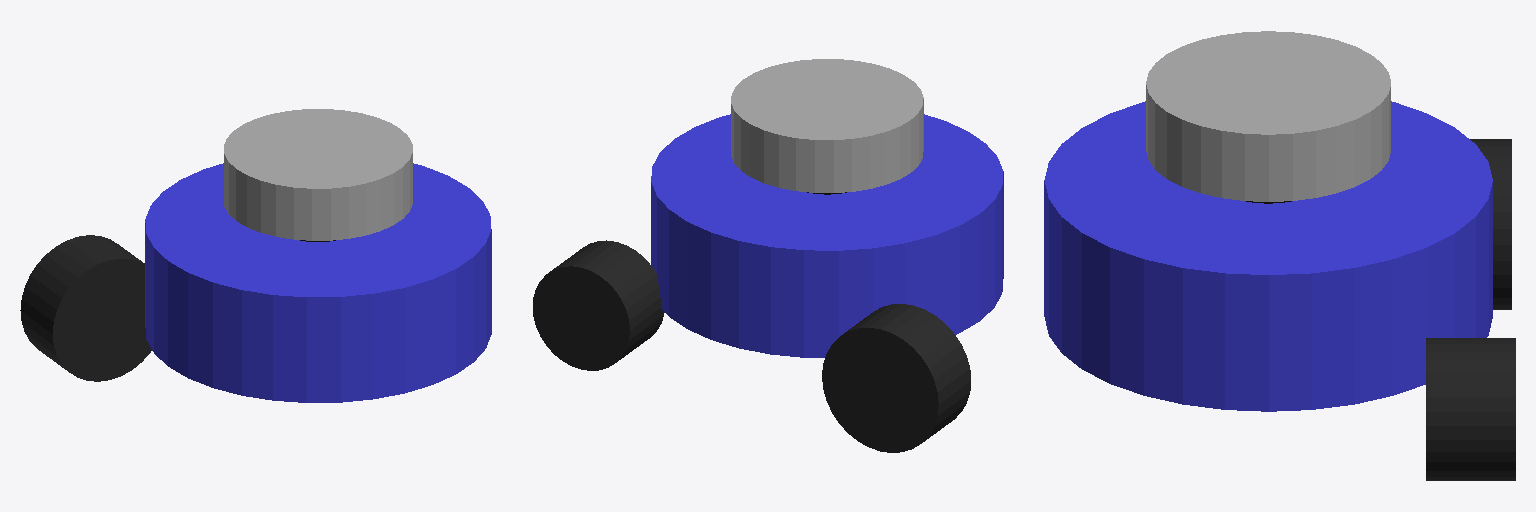
URDF robot description (evolved_robot):
<?xml version="1.0"?>
<robot name="evolved_robot">
  <material name="metal">
    <color rgba="0.7 0.7 0.7 1.0"/>
  </material>
  <material name="plastic">
    <color rgba="0.3 0.3 0.9 1.0"/>
  </material>
  <material name="rubber">
    <color rgba="0.1 0.1 0.1 1.0"/>
  </material>
  <material name="red">
    <color rgba="1.0 0.0 0.0 1.0"/>
  </material>
  <material name="wheel_material">
    <color rgba="0.2 0.2 0.2 1.0"/>
  </material>
  <link name="base_link">
    <visual>
      <geometry><cylinder radius="0.15919559784818307" length="0.10696531036507993"/></geometry>
      <material name="plastic"/>
    </visual>
    <collision>
      <geometry><cylinder radius="0.15919559784818307" length="0.10696531036507993"/></geometry>
    </collision>
    <inertial>
      <mass value="5.0"/>
      <inertia ixx="0.07289274395351597" ixy="0" ixz="0" 
               iyy="0.07289274395351597" iyz="0" 
               izz="0.12671619187120214"/>
    </inertial>
  </link>
  <link name="link1">
    <visual>
      <geometry><sphere radius="0.038968192844657516"/></geometry>
      <material name="rubber"/>
    </visual>
    <collision>
      <geometry><sphere radius="0.038968192844657516"/></geometry>
    </collision>
    <inertial>
      <mass value="0.5"/>
      <inertia ixx="0.0006074080214313669" ixy="0" ixz="0" 
               iyy="0.0006074080214313669" iyz="0" 
               izz="0.0006074080214313669"/>
    </inertial>
  </link>
  <joint name="joint1" type="revolute">
    <parent link="base_link"/>
    <child link="link1"/>
    <origin xyz="0 0 0.053482655182539966" rpy="0 0 0"/>
    <axis xyz="0.621145700548614 -0.7058397825632913 -0.34054106953637375"/>
    <dynamics damping="0.7907198547146193" friction="0.1"/>
    <limit lower="-1.0519210964026422" upper="1.5065430279141798" effort="100" velocity="100"/>
  </joint>
  <link name="link2">
    <visual>
      <geometry><cylinder radius="0.08703728253224653" length="0.05273362702564697"/></geometry>
      <material name="metal"/>
    </visual>
    <collision>
      <geometry><cylinder radius="0.08703728253224653" length="0.05273362702564697"/></geometry>
    </collision>
    <inertial>
      <mass value="0.5"/>
      <inertia ixx="0.0021256084225895304" ixy="0" ixz="0" 
               iyy="0.0021256084225895304" iyz="0" 
               izz="0.0037877442752990535"/>
    </inertial>
  </link>
  <joint name="joint2" type="revolute">
    <parent link="base_link"/>
    <child link="link2"/>
    <origin xyz="0 0 0.10348265518253996" rpy="0 0 0"/>
    <axis xyz="0.0 0.999999998354316 5.737044490218253e-05"/>
    <dynamics damping="0.6247021823949106" friction="0.1"/>
    <limit lower="-1.010946319447928" upper="2.826" effort="100" velocity="100"/>
  </joint>
  <link name="link3">
    <visual>
      <geometry>
        <cylinder radius="0.05079073287635513" length="0.06360191760646075"/>
      </geometry>
      <material name="wheel_material"/>
    </visual>
    <collision>
      <geometry>
        <cylinder radius="0.05079073287635513" length="0.06360191760646075"/>
      </geometry>
    </collision>
    <inertial>
      <mass value="1.0"/>
      <inertia ixx="0.000982024963464234" ixy="0" ixz="0" 
               iyy="0.000982024963464234" iyz="0" 
               izz="0.001289849273058631"/>
    </inertial>
  </link>
  <joint name="joint3" type="floating">
    <parent link="base_link"/>
    <child link="link3"/>
    <origin xyz="0.15500333243222905 0.1433878632641371 -0.053482655182539966" rpy="1.5708 0 0"/>
    <axis xyz="0 1 0"/>
    <dynamics damping="0.9386368848209998" friction="0.1"/>
  </joint>
  <link name="link4">
    <visual>
      <geometry>
        <cylinder radius="0.06079505596454446" length="0.058975169780921946"/>
      </geometry>
      <material name="wheel_material"/>
    </visual>
    <collision>
      <geometry>
        <cylinder radius="0.06079505596454446" length="0.058975169780921946"/>
      </geometry>
    </collision>
    <inertial>
      <mass value="1.0"/>
      <inertia ixx="0.0012138489283237373" ixy="0" ixz="0" 
               iyy="0.0012138489283237373" iyz="0" 
               izz="0.0018480194148660465"/>
    </inertial>
  </link>
  <joint name="joint4" type="continuous">
    <parent link="base_link"/>
    <child link="link4"/>
    <origin xyz="-0.15500333243222905 0.1433878632641371 -0.053482655182539966" rpy="1.5708 0 0"/>
    <axis xyz="0 1 0"/>
    <dynamics damping="0.4546223756437424" friction="0.1"/>
  </joint>
</robot>

--- What the picture shows (computed from the rendered views, not written in the file) ---
3 views of the same robot in one strip: view 1: azimuth 30°, elevation 25°; view 2: azimuth 150°, elevation 25°; view 3: azimuth 270°, elevation 25° (orthographic).
Model evolved_robot with 5 links and 4 joints (2 revolute, 1 continuous, 1 floating), rooted at base_link, posed all joints at 0.
Visible links, largest first — view 1: base_link, link2, link4; view 2: base_link, link2, link4, link3; view 3: base_link, link2, link3, link4.
Boxes of the visible links, x1,y1,x2,y2 form: base_link: (145, 163, 491, 402); link2: (224, 109, 412, 240); link4: (20, 235, 151, 381); base_link: (651, 114, 1003, 357); link2: (731, 59, 923, 192); link4: (822, 304, 970, 452); link3: (533, 240, 664, 370); base_link: (1044, 101, 1492, 411); link2: (1146, 31, 1390, 201); link3: (1426, 338, 1515, 480); link4: (1470, 139, 1511, 309).
Size in the robot's own frame: 0.4216 by 0.3344 by 0.2441 metres.
Geometry: primitives only (box / cylinder / sphere), no mesh files.